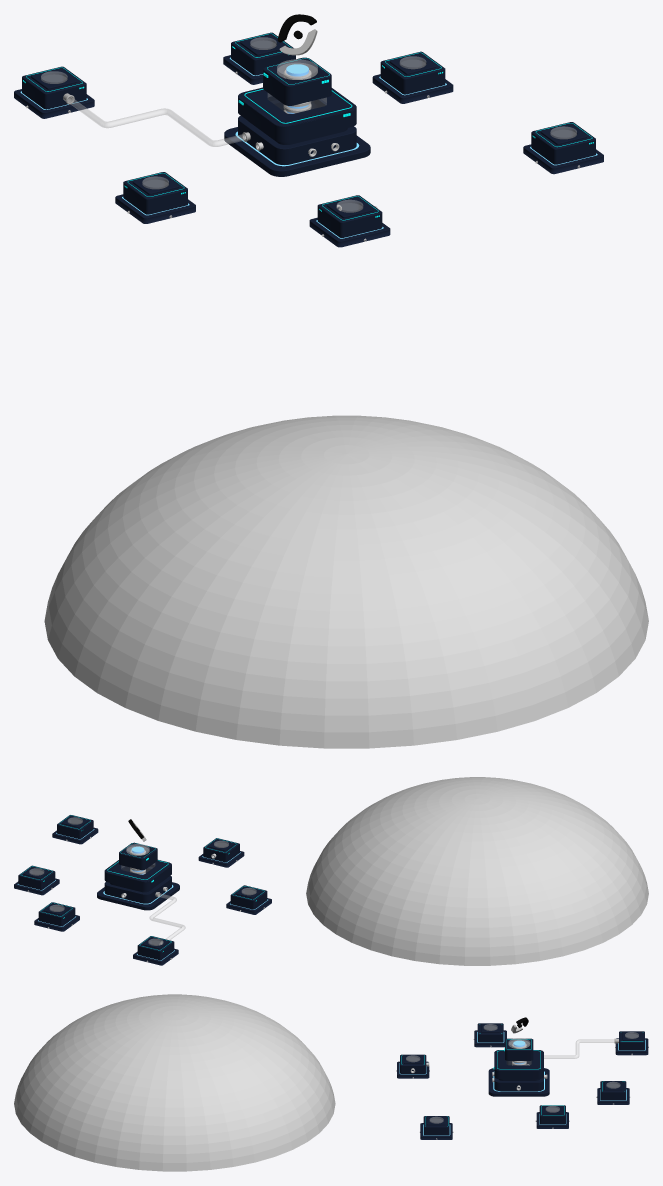
The model's file is Test_for_blender(17)copy.glb.
The picture shows the model from 3 angles, top to bottom: view 1: azimuth 30°, elevation 25°; view 2: azimuth 150°, elevation 25°; view 3: azimuth 270°, elevation 25°; orthographic projection. The views are drawn at different scales.
Visible parts, largest first — view 1: Sphere, Cube, Platform.001, Platform, Platform.002, Platform.005, Platform.003, Platform.004, Plane.003; view 2: Sphere, Cube, Platform.001, Platform.004, Platform.002, Platform.003, Platform.005, Platform, Plane.003; view 3: Sphere, Cube, Platform.003, Platform.005, Platform, Platform.002, Platform.001, Platform.004, Plane.003.
Part boxes in pixels (box(x1,y1,x2,y2)): Sphere: box(44, 415, 648, 748); Cube: box(224, 57, 370, 176); Platform.001: box(372, 51, 453, 103); Platform: box(309, 195, 390, 247); Platform.002: box(523, 122, 603, 174); Platform.005: box(115, 172, 195, 223); Platform.003: box(14, 66, 94, 118); Platform.004: box(223, 32, 295, 84); Plane.003: box(68, 97, 245, 146); Sphere: box(306, 777, 648, 965); Cube: box(97, 842, 179, 910); Platform.001: box(14, 865, 59, 895); Platform.004: box(34, 902, 79, 931); Platform.002: box(52, 815, 98, 844); Platform.003: box(133, 936, 178, 965); Platform.005: box(226, 885, 271, 914); Platform: box(198, 838, 244, 867); Plane.003: box(149, 893, 185, 943); Sphere: box(14, 994, 335, 1171); Cube: box(488, 1038, 549, 1096); Platform.003: box(615, 1031, 648, 1055); Platform.005: box(474, 1023, 506, 1047); Platform: box(397, 1054, 429, 1078); Platform.002: box(420, 1116, 452, 1139); Platform.001: box(536, 1105, 568, 1128); Platform.004: box(597, 1081, 629, 1104); Plane.003: box(544, 1039, 614, 1058).
Bounding box in the file's own units: 62.28 × 23.62 × 85.64.
